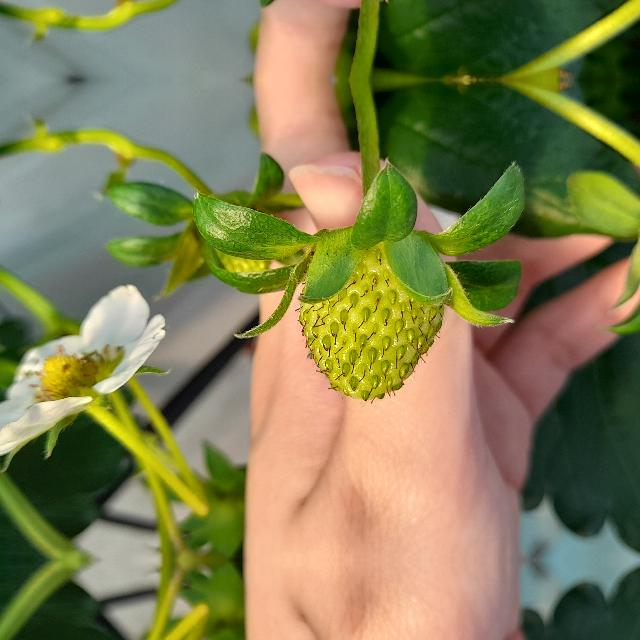Health_25: (296, 230, 444, 404)
